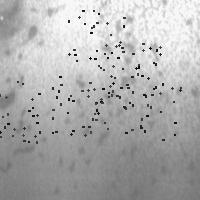pitted_surface: (75, 15, 196, 187), (1, 69, 48, 177), (95, 47, 155, 107), (52, 75, 112, 134), (100, 43, 159, 101), (68, 10, 123, 68), (1, 1, 44, 74), (124, 83, 180, 139), (0, 81, 39, 141)
